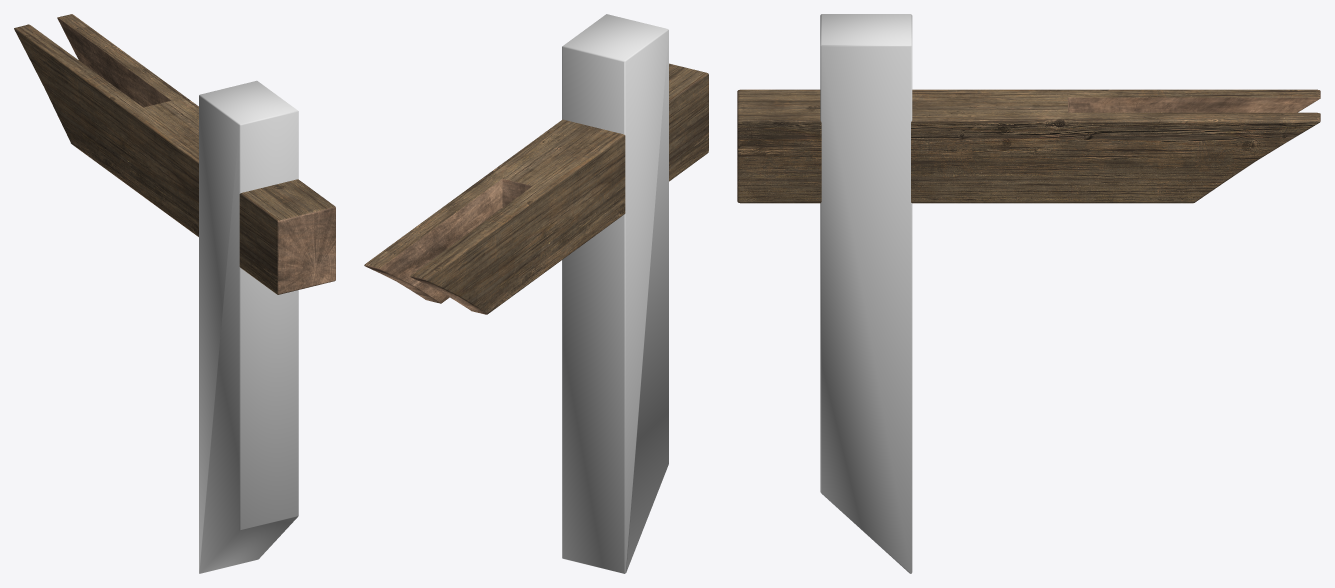
The model's file is SM_WheelMechanism_B.fbx.
3 renders of one model, left to right at view 1: azimuth 30°, elevation 25°; view 2: azimuth 150°, elevation 25°; view 3: azimuth 270°, elevation 25°, orthographic. The views are drawn at different scales.
Parts seen in each view (by area): view 1: SM_WheelMechanism_B_ConvexHulls, SM_WheelMechanism_B; view 2: SM_WheelMechanism_B_ConvexHulls, SM_WheelMechanism_B; view 3: SM_WheelMechanism_B, SM_WheelMechanism_B_ConvexHulls.
Boxes of the visible parts, x1=… form: SM_WheelMechanism_B_ConvexHulls: x1=199, y1=80, x2=298, y2=573; SM_WheelMechanism_B: x1=14, y1=14, x2=335, y2=294; SM_WheelMechanism_B_ConvexHulls: x1=562, y1=14, x2=668, y2=573; SM_WheelMechanism_B: x1=364, y1=63, x2=708, y2=314; SM_WheelMechanism_B: x1=737, y1=89, x2=1320, y2=203; SM_WheelMechanism_B_ConvexHulls: x1=820, y1=14, x2=912, y2=573.
Size of the model in its own units: 0.5018 by 3.88 by 3.88.
